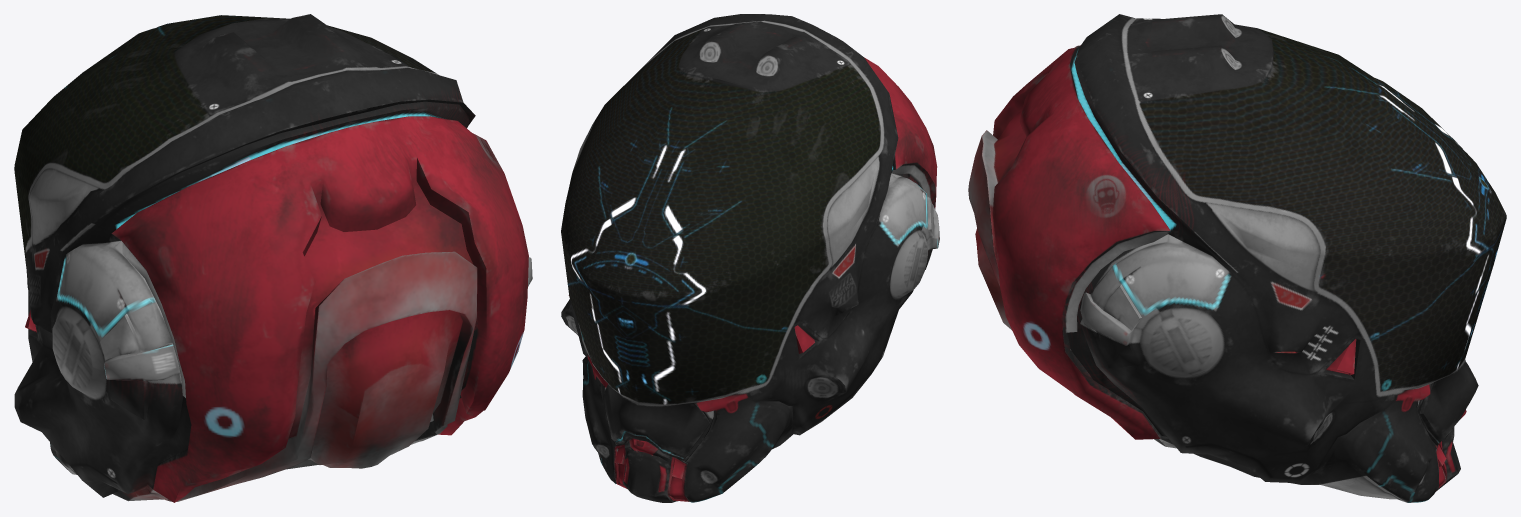
The model's file is scifi_helmet.glb.
3 views of the same model, side by side, from view 1: azimuth 30°, elevation 25°; view 2: azimuth 150°, elevation 25°; view 3: azimuth 270°, elevation 25° (orthographic). The views are drawn at different scales.
Parts seen in each view (by area): view 1: Plane.023_0; view 2: Plane.023_0; view 3: Plane.023_0.
Part boxes in pixels (box(x1,y1,x2,y2)): Plane.023_0: box(14, 14, 532, 502); Plane.023_0: box(561, 14, 939, 502); Plane.023_0: box(968, 14, 1506, 502).
Size of the model in its own units: 2.42 by 2.83 by 3.06.
1 material, 1 textured.
